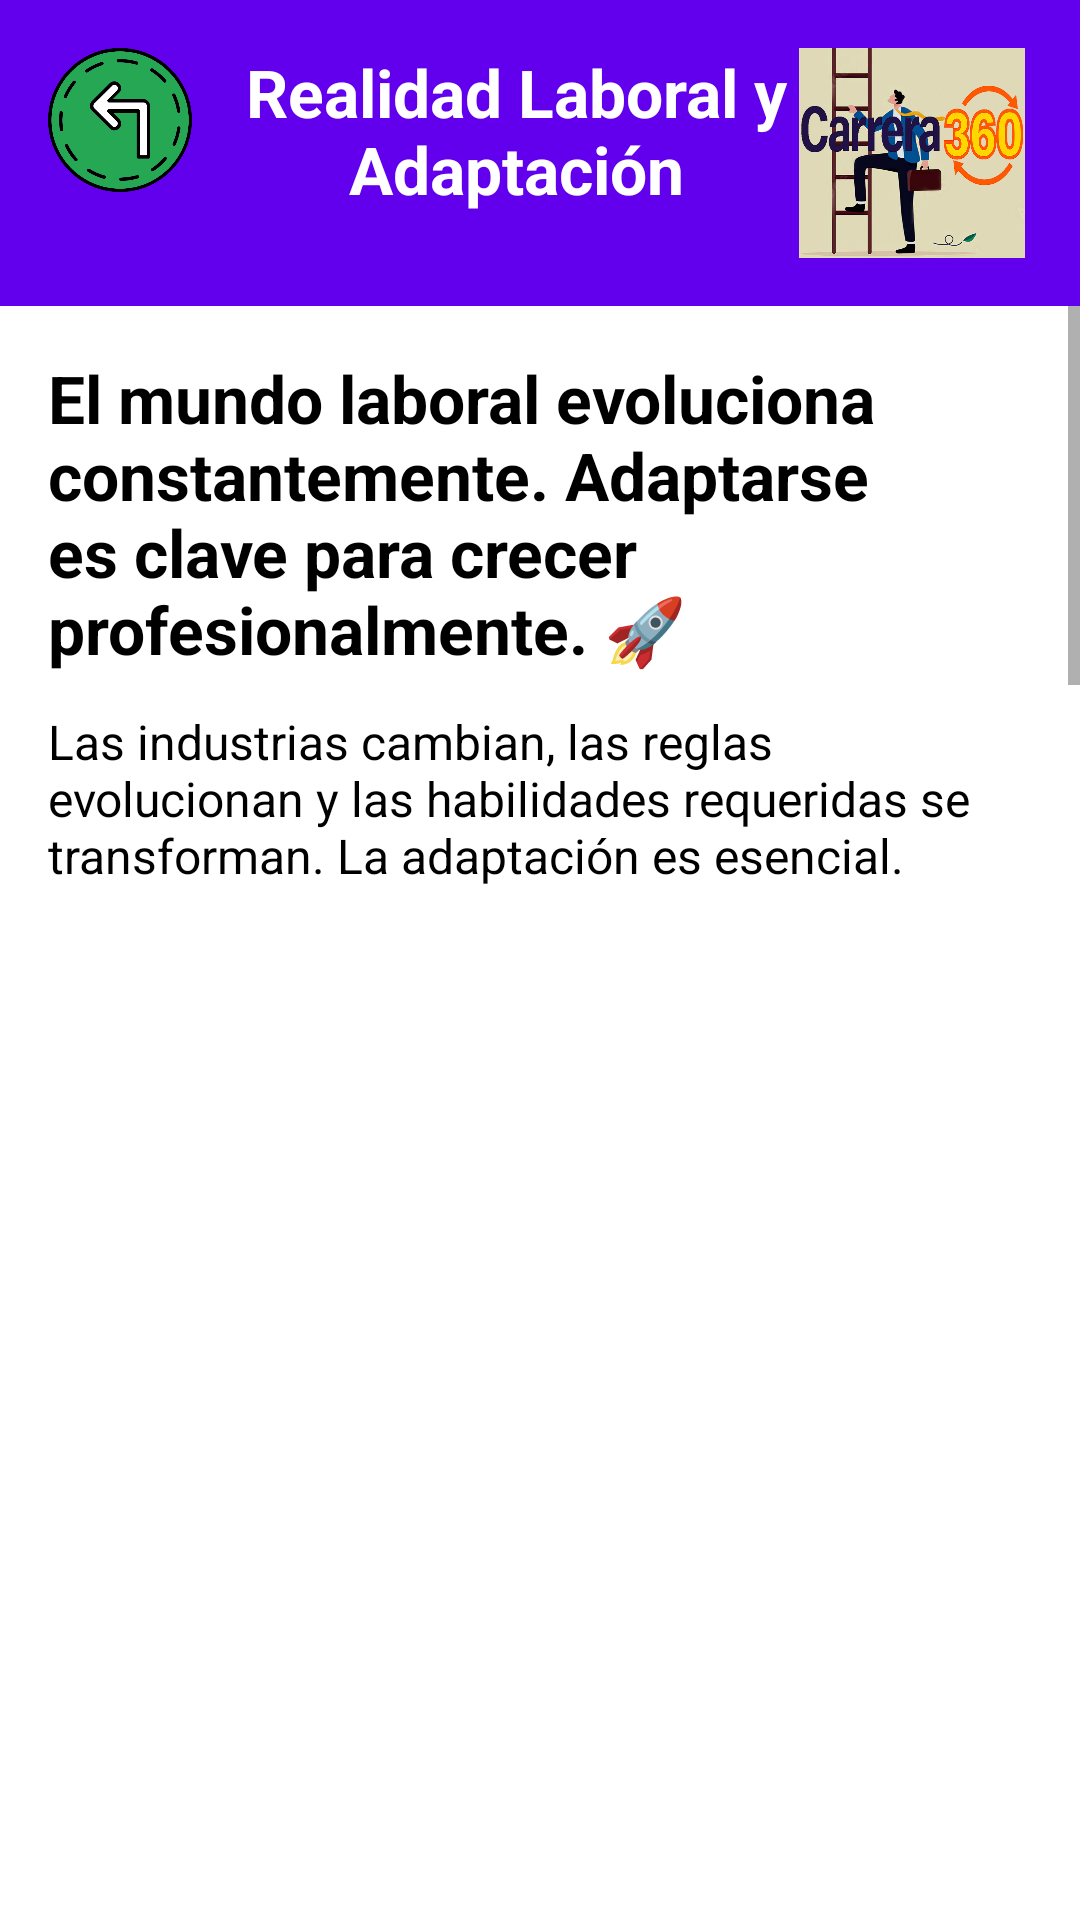

Screen size 1080x1920. Icon name, then its center in pixels as point (x, y):
Regresar a Inicio: point (120, 120)
